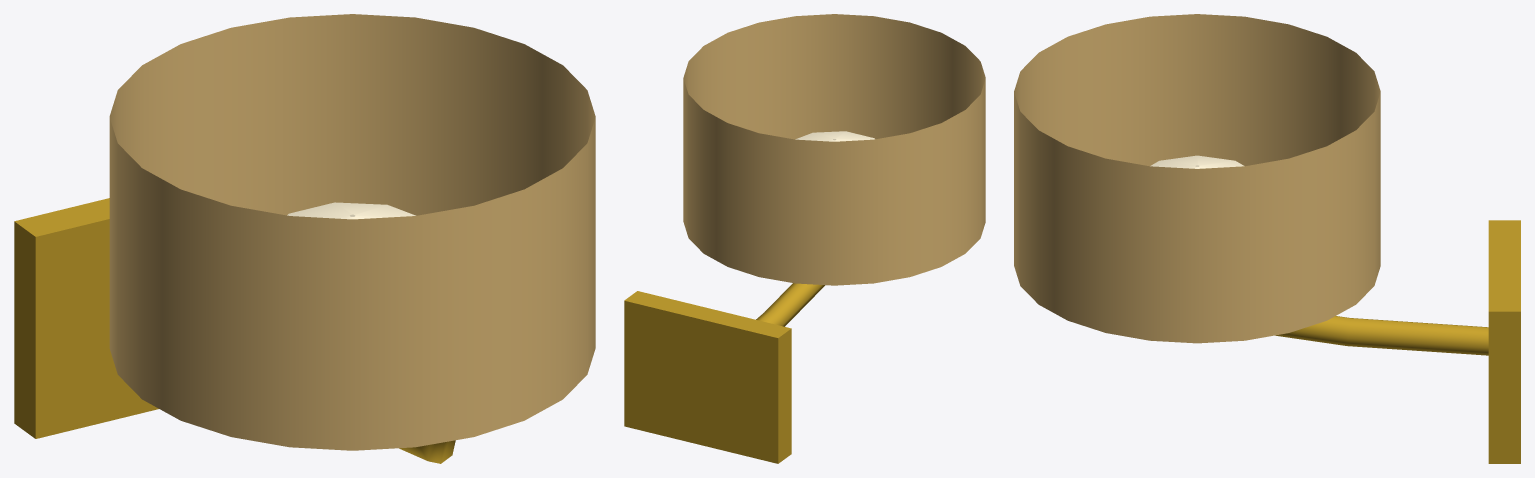
The model's file is FET-SCN-std.glb.
The picture shows the model from 3 angles, left to right: view 1: azimuth 30°, elevation 25°; view 2: azimuth 150°, elevation 25°; view 3: azimuth 270°, elevation 25°; orthographic projection. The views are drawn at different scales.
Parts seen in each view (by area): view 1: FET-SCN-std; view 2: FET-SCN-std; view 3: FET-SCN-std.
Boxes of the visible parts, x1,y1,x2,y2 form: FET-SCN-std: [14, 14, 595, 463]; FET-SCN-std: [624, 14, 985, 463]; FET-SCN-std: [1014, 14, 1520, 463].
Size of the model in its own units: 0.17 by 0.1673 by 0.235.
